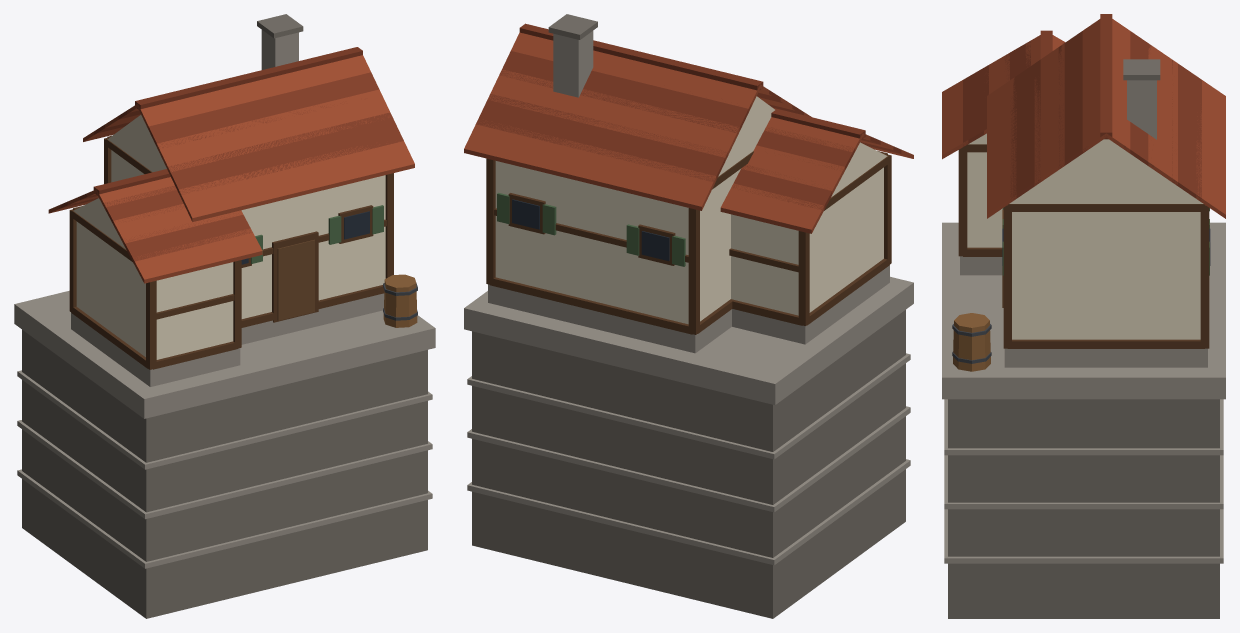
Rendered from house_l2_2.glb.
3 renders of one model, left to right at view 1: azimuth 30°, elevation 25°; view 2: azimuth 150°, elevation 25°; view 3: azimuth 270°, elevation 25°, orthographic. The views are drawn at different scales.
Visible parts, largest first — view 1: house_l2_2; view 2: house_l2_2; view 3: house_l2_2.
Part boxes in pixels (x1,y1,x2,y2): house_l2_2: [14, 14, 435, 618]; house_l2_2: [464, 14, 913, 618]; house_l2_2: [942, 14, 1225, 618].
Size of the model in its own units: 6.15 by 9.61 by 4.75.
